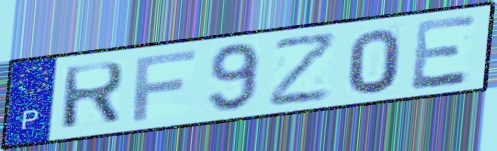0: (343, 24, 405, 97)
9: (207, 41, 264, 114)
E: (409, 12, 480, 93)
F: (130, 48, 199, 124)
R: (58, 59, 128, 131)
Z: (267, 29, 340, 110)
